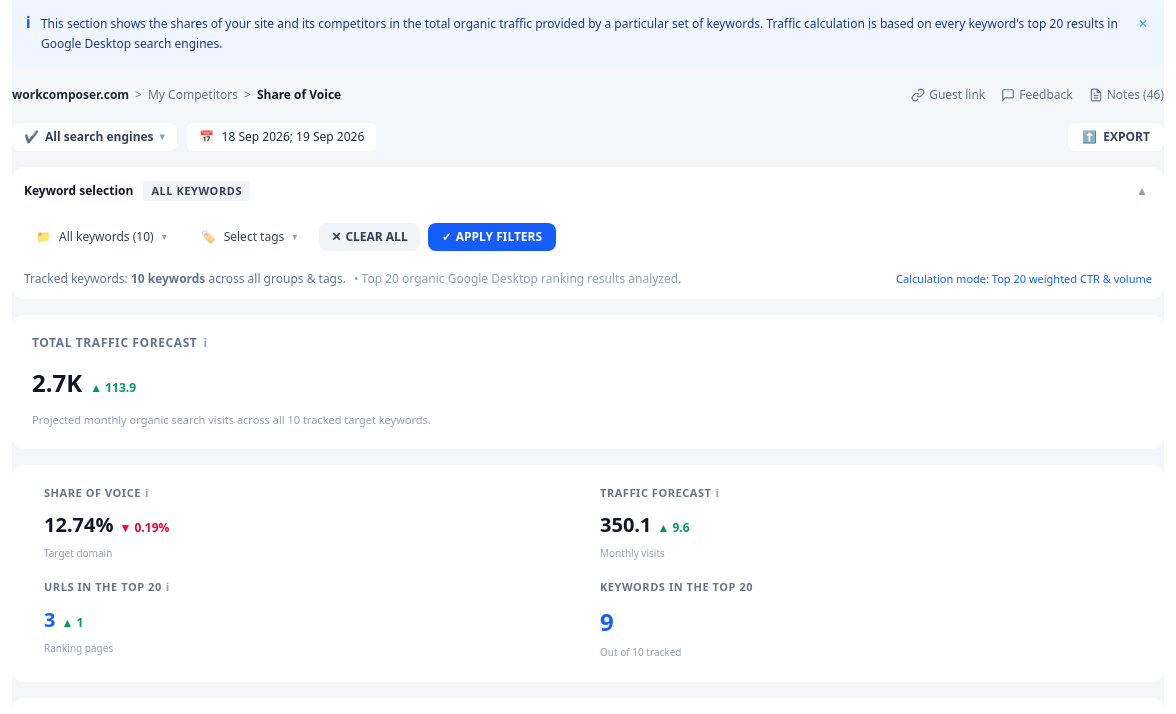
ShareOfVoiceView Component › selects search engine from dropdown
The width and height of the screenshot is (1176, 714).
Step 1. Click the text "All search engines" → x=99, y=137, box top-left (45, 129), bottom-right (154, 145)
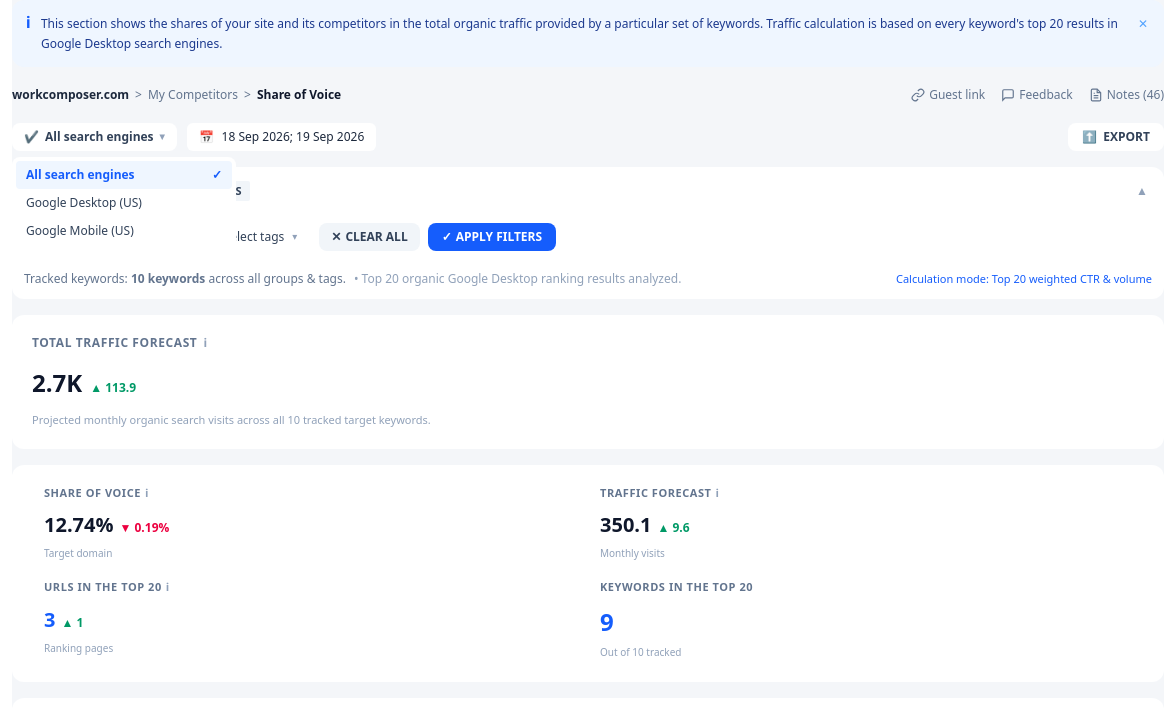
Step 2. Click the button "Google Mobile (US)" → x=124, y=231, box top-left (16, 217), bottom-right (232, 245)
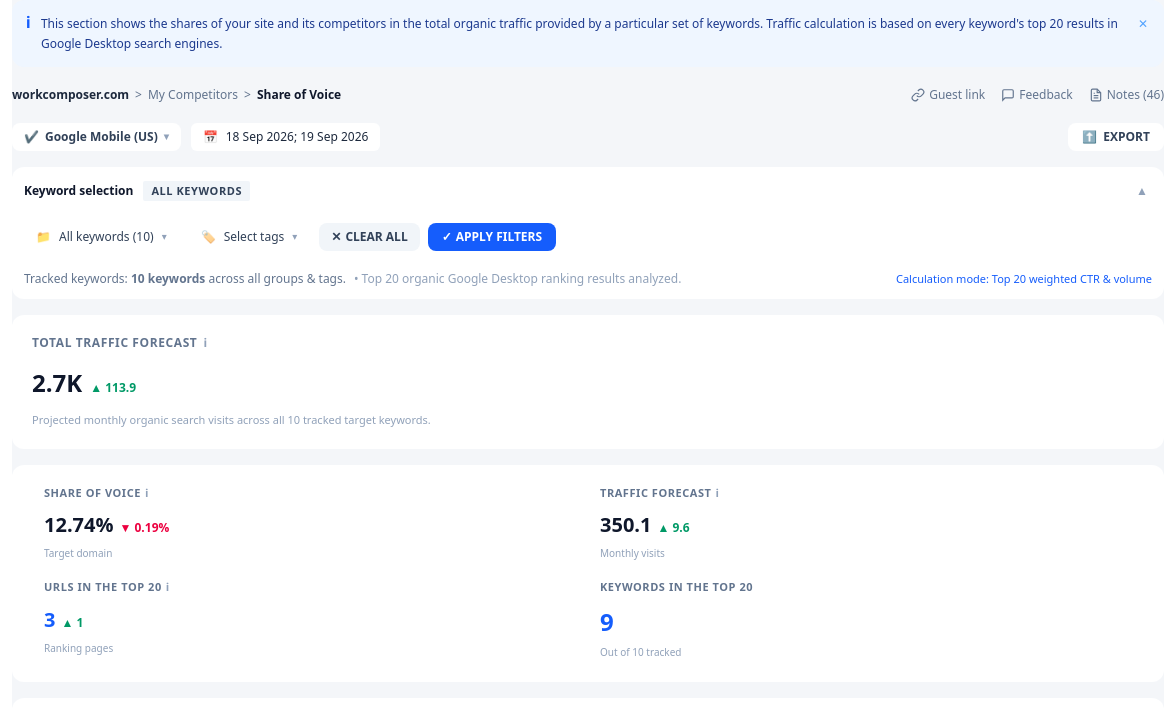
Result: the text "Google Mobile (US)" is shown at top-left (45, 129), bottom-right (158, 145)
